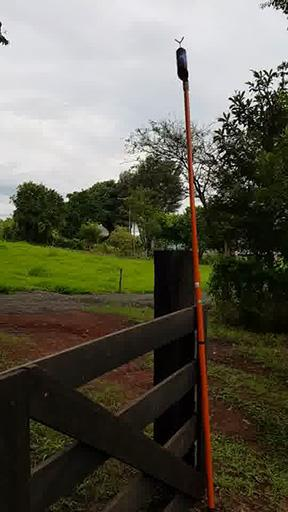Detector_Tensao_Contato: (173, 35, 190, 82)
Vara_Manobra: (181, 80, 215, 511)
